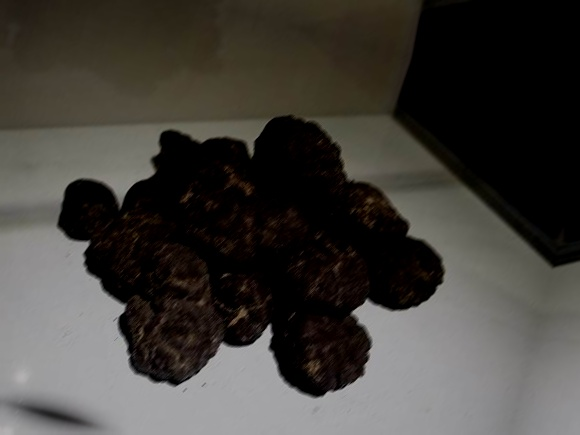halobolite: (109, 280, 238, 377), (246, 102, 348, 215), (270, 299, 370, 399), (87, 203, 196, 290), (174, 192, 274, 265), (359, 229, 440, 312), (143, 127, 239, 190), (272, 217, 338, 306), (60, 171, 115, 240)
